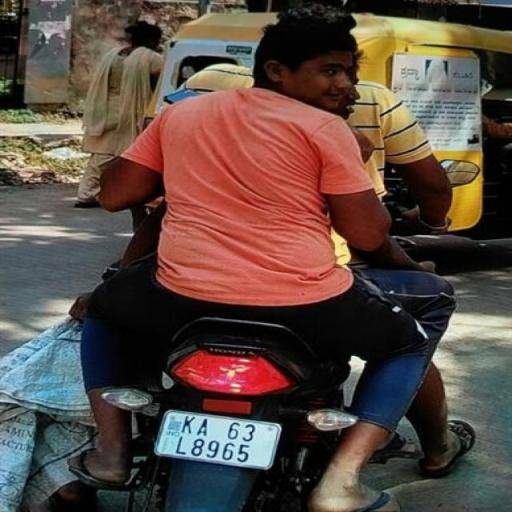tripple riding: (71, 0, 476, 320)
